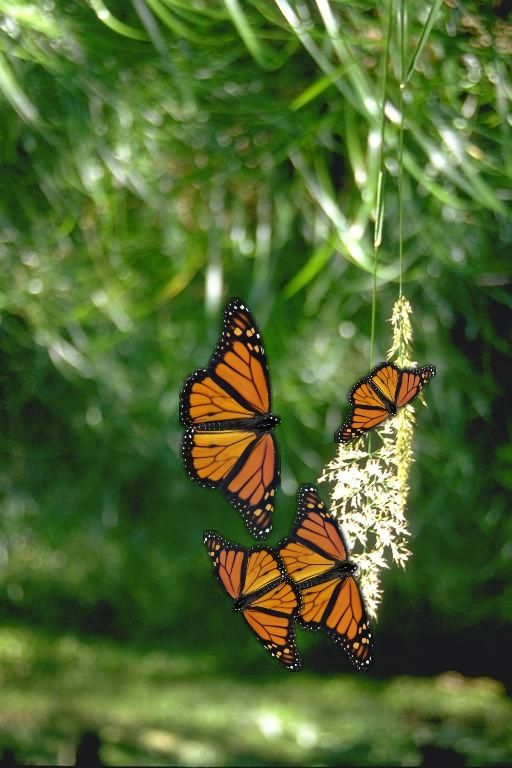danaus_plexippus: (179, 297, 281, 541), (271, 483, 373, 672), (203, 530, 305, 672), (334, 362, 436, 443)
